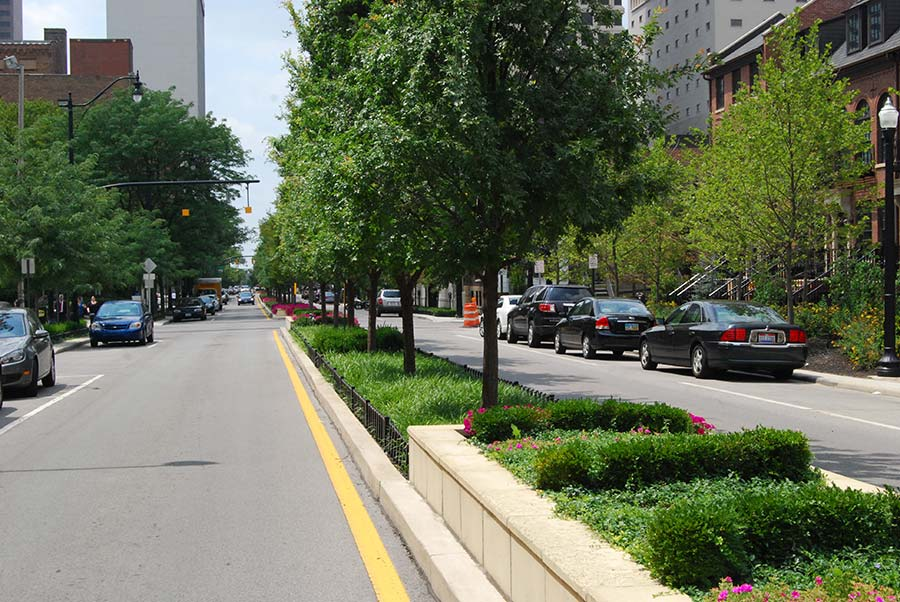tree: (474, 5, 507, 408), (389, 204, 421, 377), (367, 264, 376, 353)
